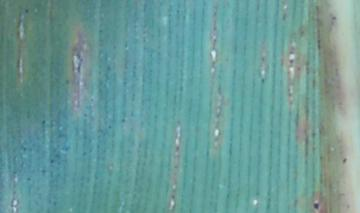tarspot: (316, 37, 322, 51), (312, 201, 320, 211), (280, 11, 287, 22), (340, 156, 348, 165), (288, 57, 295, 65), (48, 157, 55, 165), (23, 7, 30, 14), (25, 175, 32, 182), (88, 96, 95, 103), (106, 123, 113, 130), (82, 111, 88, 119), (260, 76, 265, 85), (40, 118, 46, 125), (120, 117, 126, 124), (331, 15, 337, 22), (64, 78, 70, 85), (260, 55, 265, 62)
